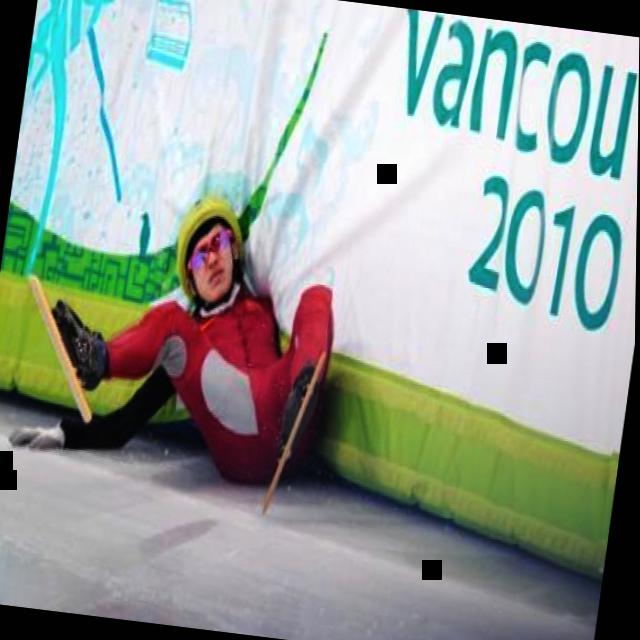Fall-Detected: (0, 152, 371, 508)
